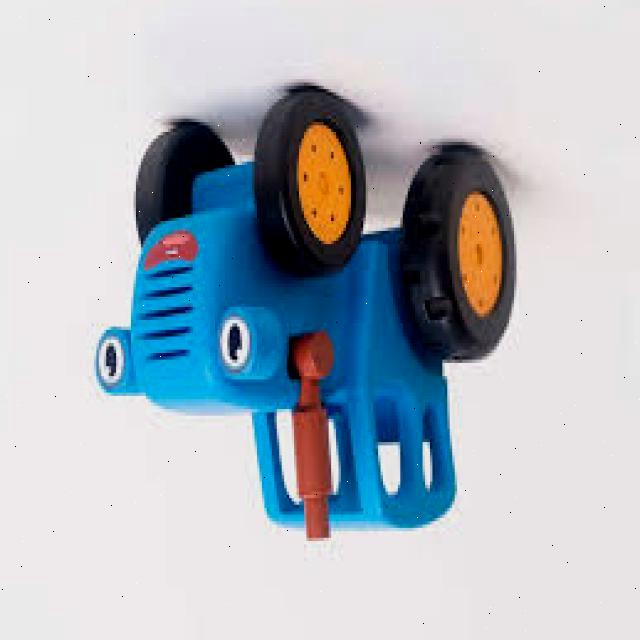Tratores - v5 YOLO V8L 2024-11-13: (94, 88, 516, 532)
